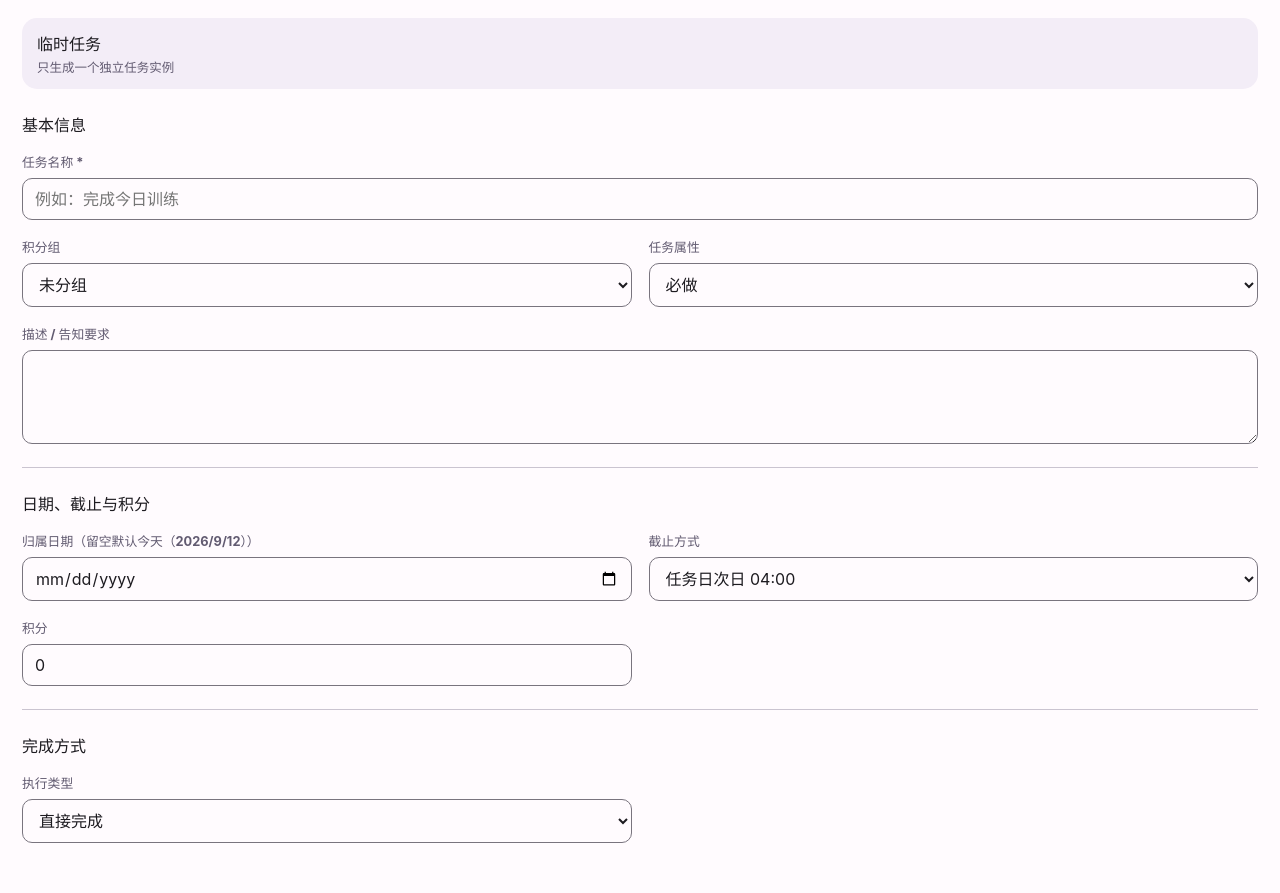
Test case: mood task editor and backup › assigns the Chinese default name when selecting mood for a blank task
This screenshot has width=1280, height=893.
Select "心情记录" in the dropdown showing "直接完成" at point(327, 821), box [22, 799, 632, 843]
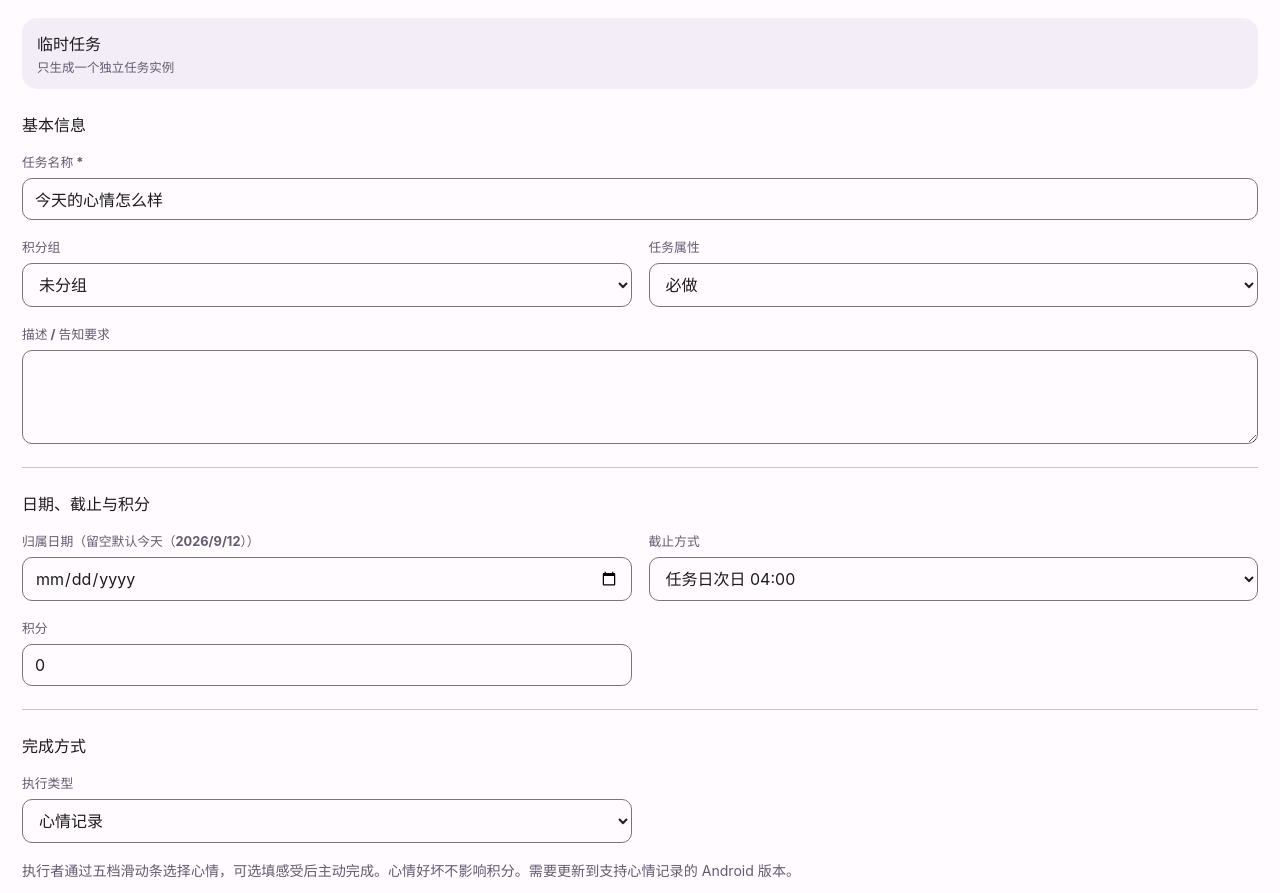
Expected: the field showing "今天的心情怎么样" is shown, [22, 178, 1258, 220]
